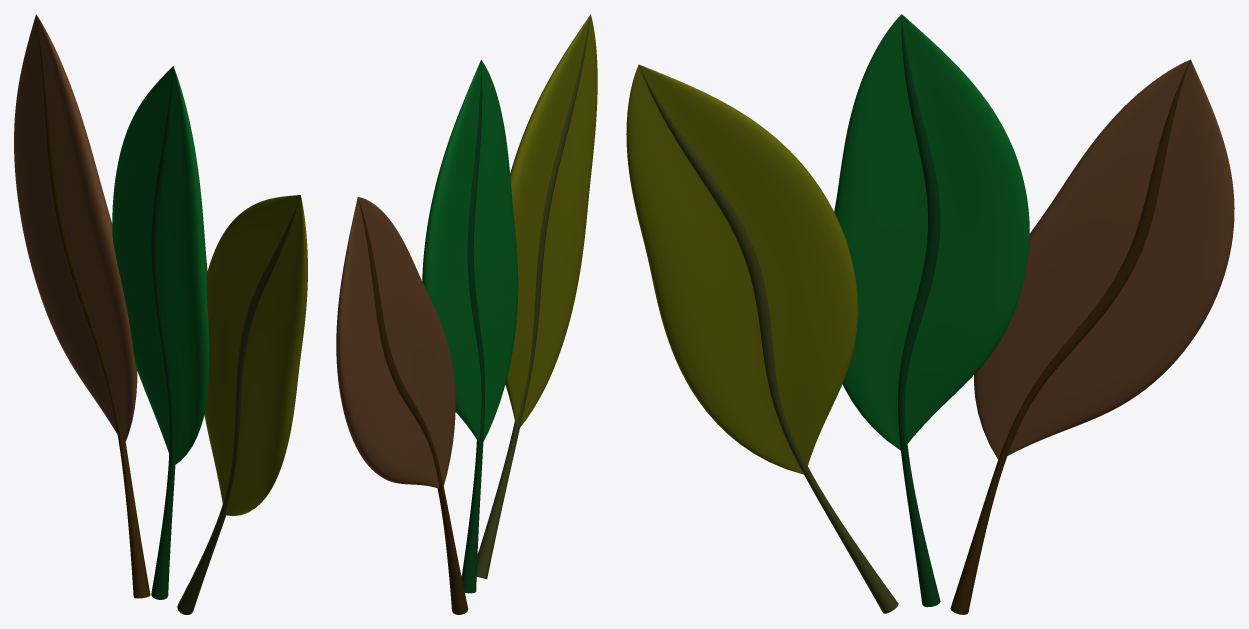
File: daun_fix.fbx
3 renders of one model, left to right at view 1: azimuth 30°, elevation 25°; view 2: azimuth 150°, elevation 25°; view 3: azimuth 270°, elevation 25°, orthographic. The views are drawn at different scales.
Visible parts, largest first — view 1: NurbsPath.003, NurbsPath, NurbsPath.004, NurbsPath.002, NurbsPath.001, NurbsPath.005; view 2: NurbsPath.003, NurbsPath, NurbsPath.004, NurbsPath.005, NurbsPath.001, NurbsPath.002; view 3: NurbsPath.004, NurbsPath.003, NurbsPath, NurbsPath.001, NurbsPath.002, NurbsPath.005.
Boxes of the visible parts, x1,y1,x2,y2 form: NurbsPath.003: [14, 14, 137, 444]; NurbsPath: [112, 66, 209, 465]; NurbsPath.004: [204, 195, 307, 515]; NurbsPath.002: [36, 16, 150, 598]; NurbsPath.001: [151, 67, 175, 599]; NurbsPath.005: [177, 197, 299, 614]; NurbsPath.003: [336, 197, 455, 488]; NurbsPath: [422, 60, 518, 442]; NurbsPath.004: [505, 14, 597, 427]; NurbsPath.005: [476, 15, 590, 578]; NurbsPath.001: [461, 61, 484, 593]; NurbsPath.002: [358, 199, 468, 614]; NurbsPath.004: [626, 64, 858, 474]; NurbsPath.003: [974, 59, 1234, 459]; NurbsPath: [834, 14, 1029, 450]; NurbsPath.001: [898, 15, 940, 607]; NurbsPath.002: [950, 62, 1189, 614]; NurbsPath.005: [639, 65, 898, 613].
Bounding box in the file's own units: 24.6 × 486 × 446.
